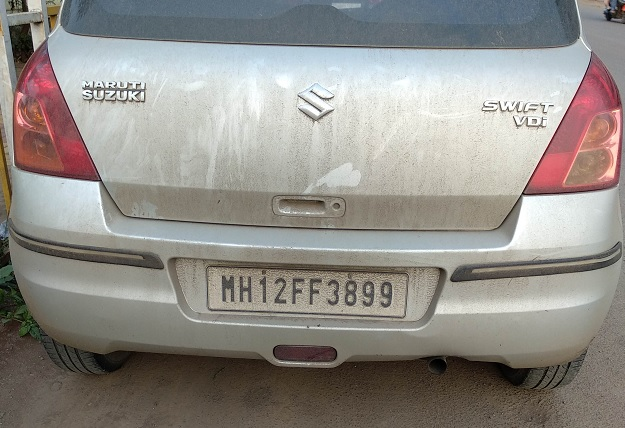licenseplate: (171, 254, 413, 324)
